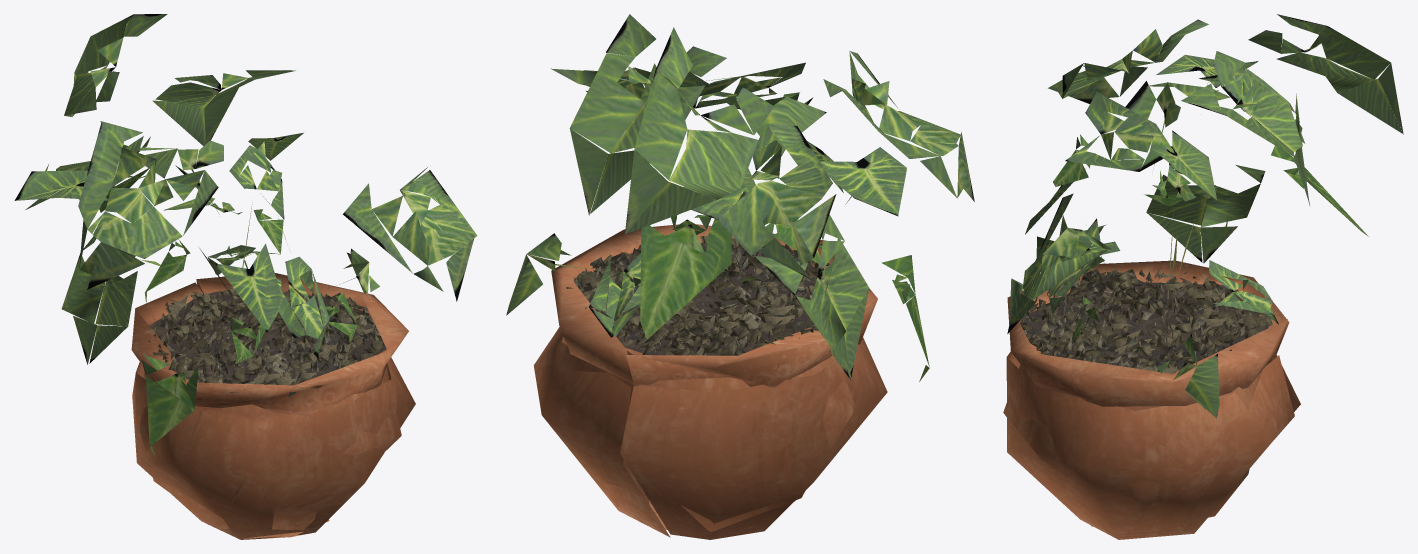
Rendered from ph_potted_plant_02.fbx.
3 views of the same model, side by side, from view 1: azimuth 30°, elevation 25°; view 2: azimuth 150°, elevation 25°; view 3: azimuth 270°, elevation 25° (orthographic). The views are drawn at different scales.
Visible parts, largest first — view 1: ph_potted_plant_02_LOD0; view 2: ph_potted_plant_02_LOD0; view 3: ph_potted_plant_02_LOD0.
Boxes of the visible parts, <box> form: ph_potted_plant_02_LOD0: <box>14,14,477,539</box>; ph_potted_plant_02_LOD0: <box>506,14,974,539</box>; ph_potted_plant_02_LOD0: <box>1003,14,1403,539</box>.
Size of what is drawn, in the model's own units: 0.6972 by 0.8492 by 0.6419.
